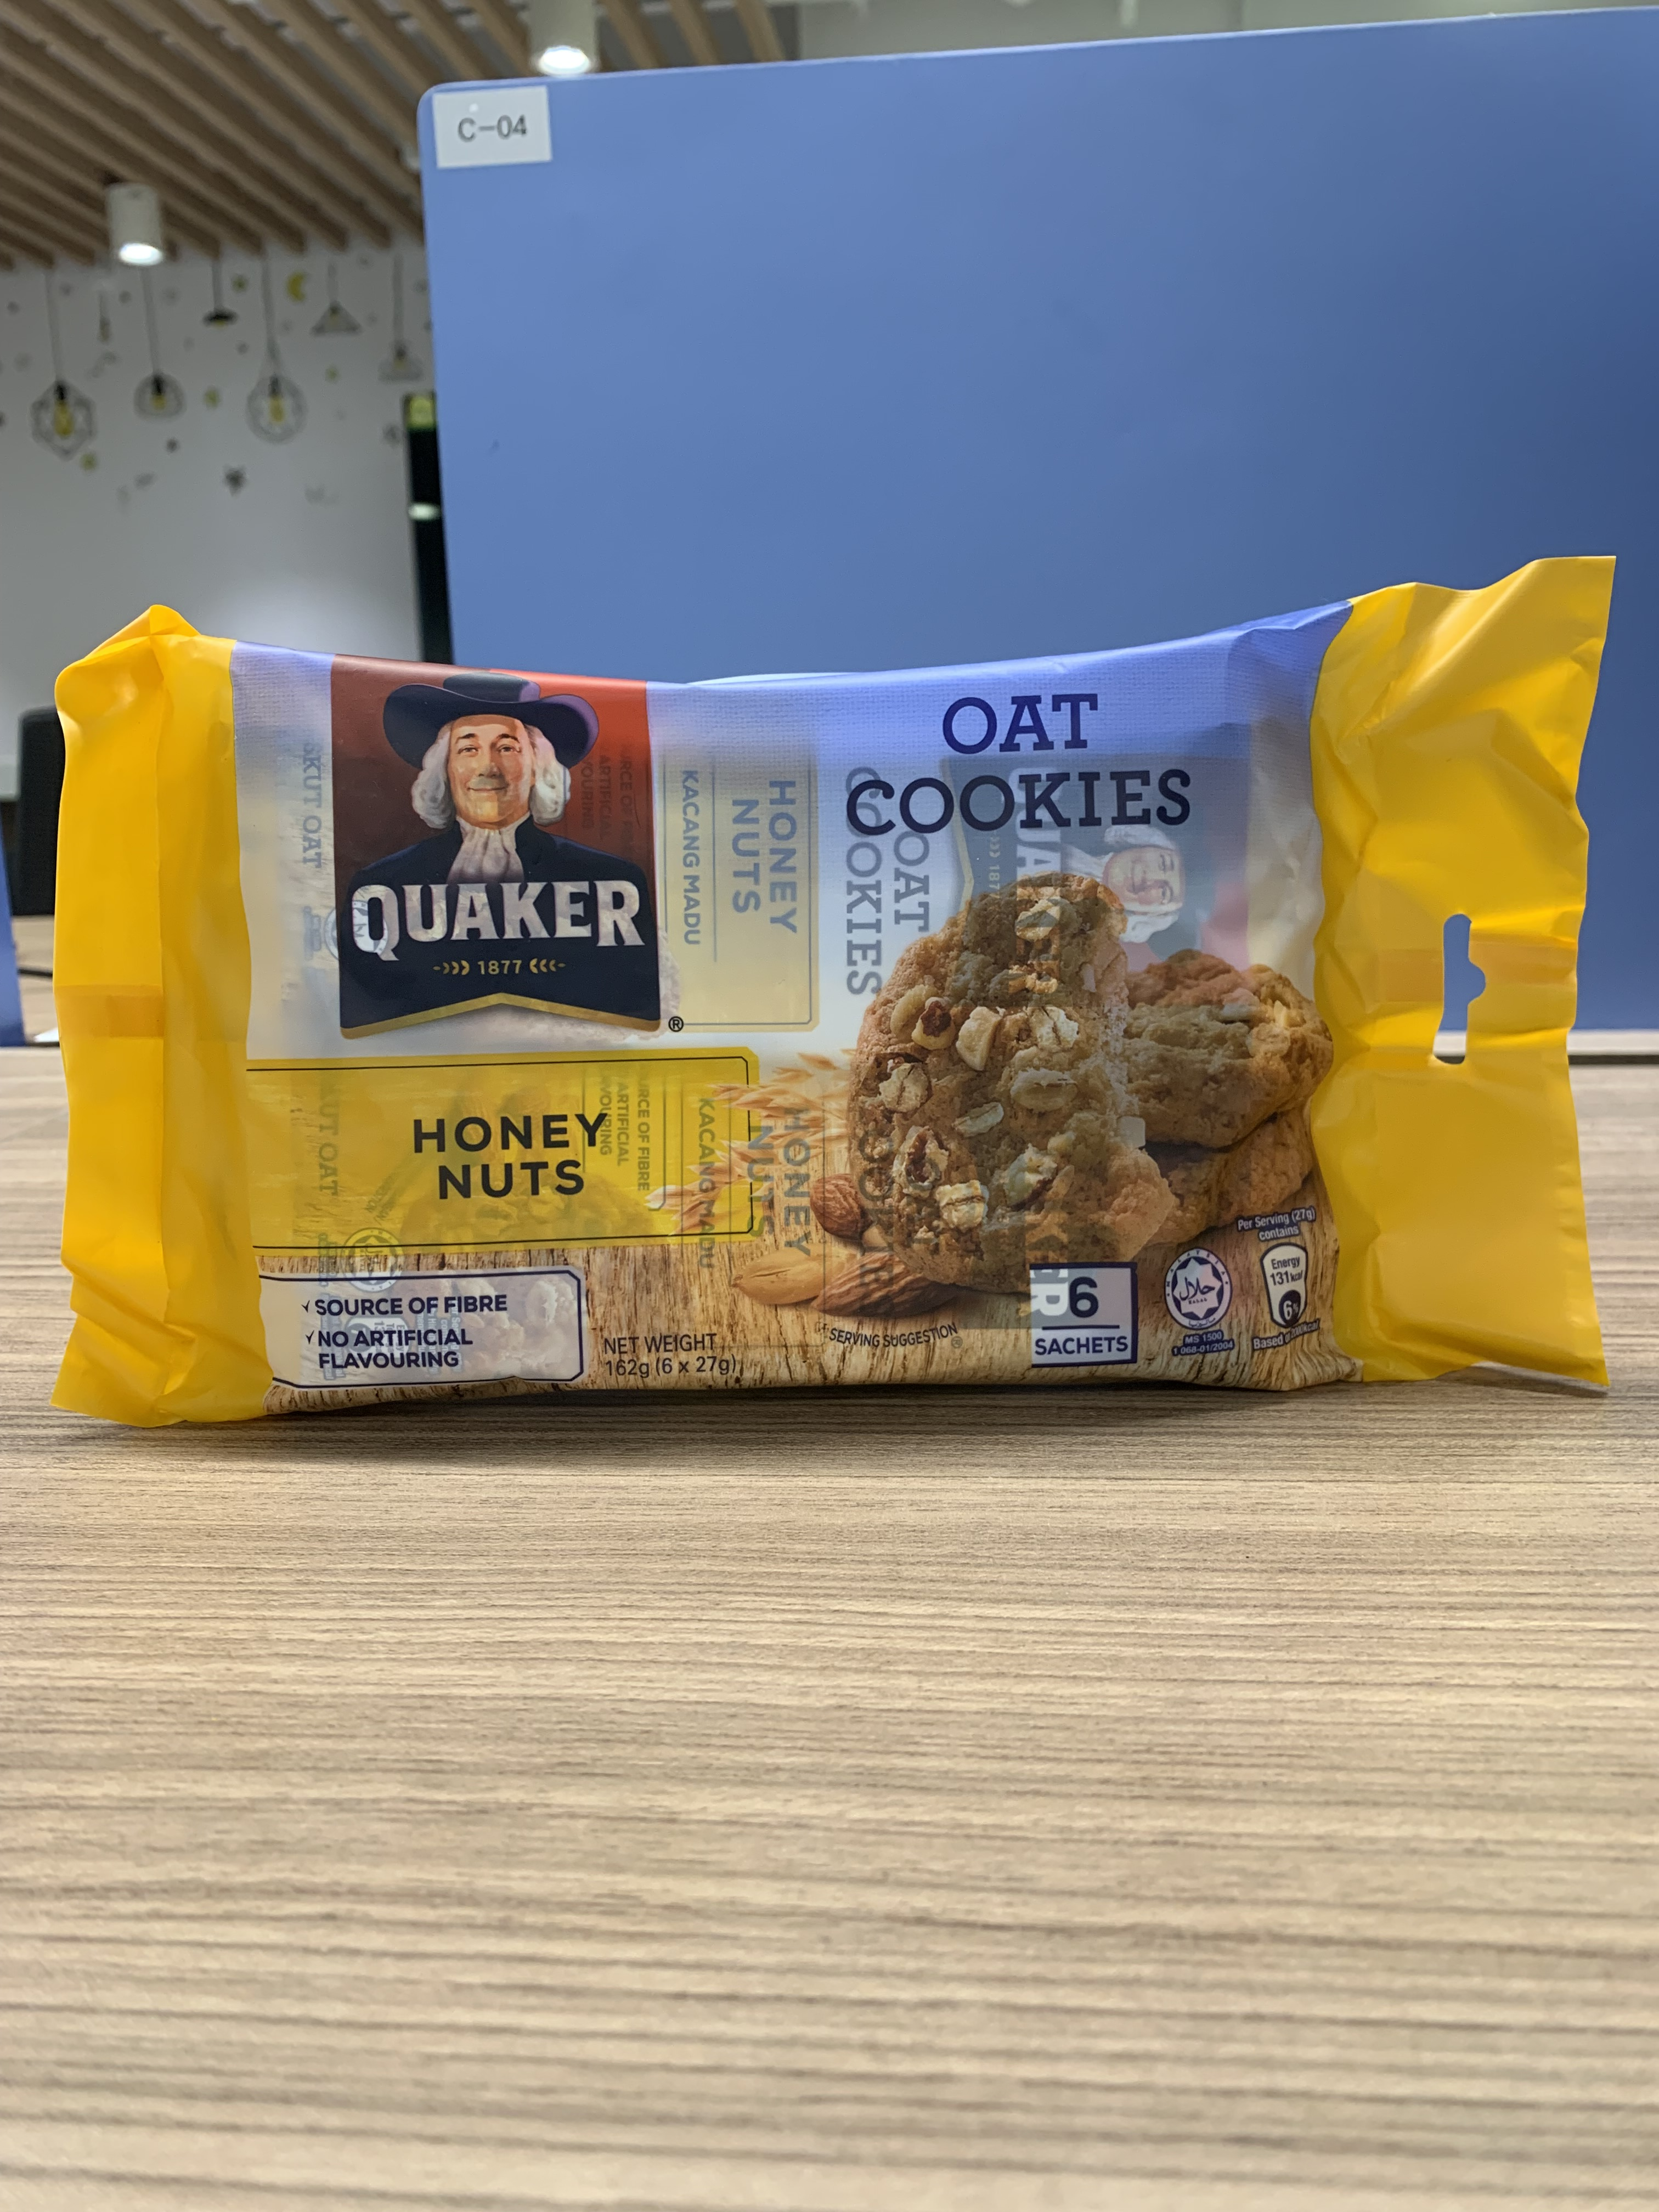cookies_100g-199g: (148, 667, 1544, 1383)
